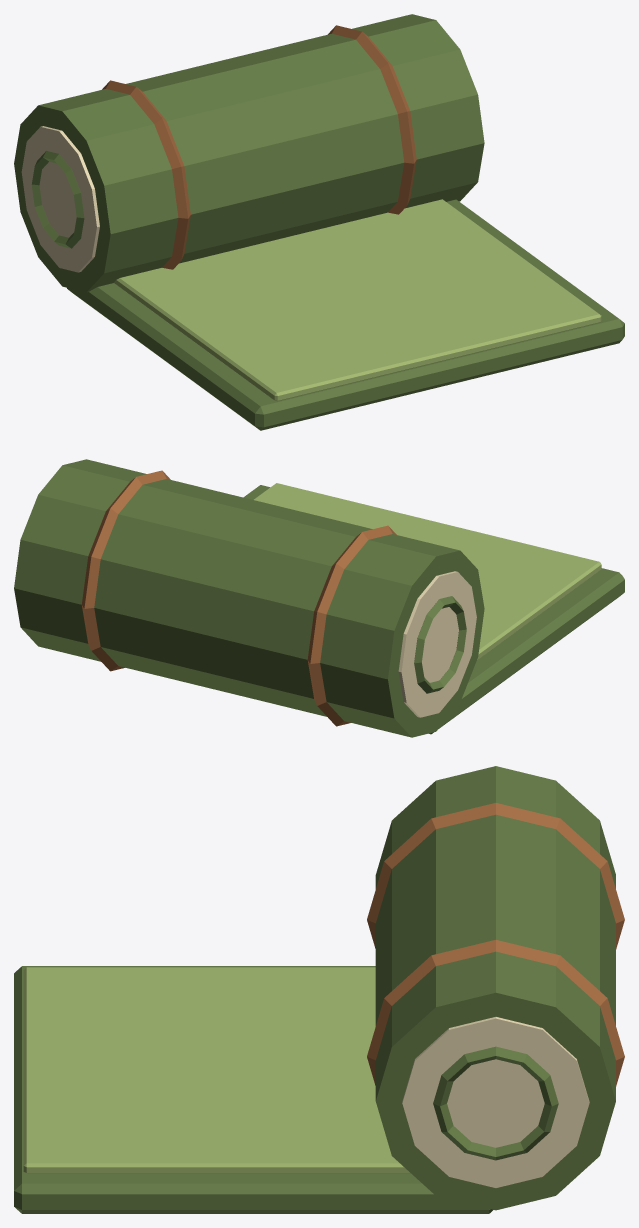
The model's file is 04_Rolled_Bedroll.glb.
3 renders of one model, top to bottom at view 1: azimuth 30°, elevation 25°; view 2: azimuth 150°, elevation 25°; view 3: azimuth 270°, elevation 25°, orthographic. The views are drawn at different scales.
Visible parts, largest first — view 1: 04_Rolled_Bedroll__Body; view 2: 04_Rolled_Bedroll__Body; view 3: 04_Rolled_Bedroll__Body.
Boxes of the visible parts, x1,y1,x2,y2 form: 04_Rolled_Bedroll__Body: (14, 14, 624, 430); 04_Rolled_Bedroll__Body: (14, 459, 624, 737); 04_Rolled_Bedroll__Body: (14, 766, 624, 1213).
Size of the model in its own units: 2 by 0.924 by 2.19.
1 material, 1 textured.
